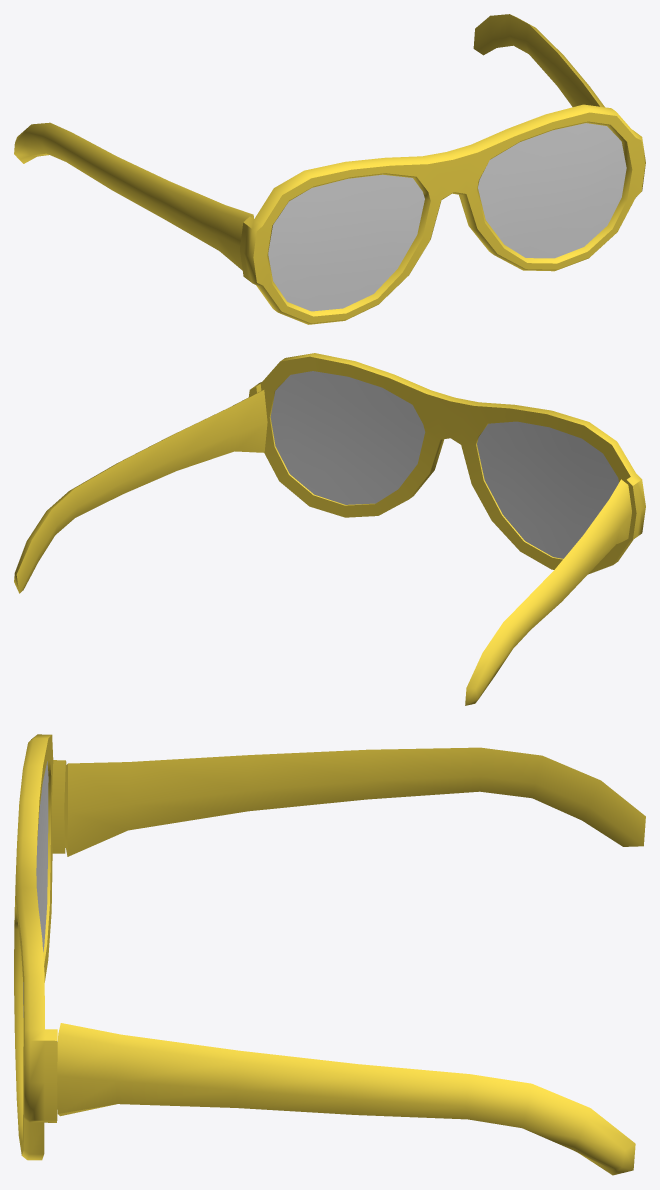
The model's file is Glasses.fbx.
The picture shows the model from 3 angles, top to bottom: view 1: azimuth 30°, elevation 25°; view 2: azimuth 150°, elevation 25°; view 3: azimuth 270°, elevation 25°; orthographic projection. The views are drawn at different scales.
Visible parts, largest first — view 1: Glasses3, Glasses2, Glasses1; view 2: Glasses3, Glasses1, Glasses2; view 3: Glasses1, Glasses2, Glasses3.
Part boxes in pixels (x1,y1,x2,y2): Glasses3: (268,123,626,311); Glasses2: (240,104,645,324); Glasses1: (14,14,604,270); Glasses3: (270,371,618,558); Glasses1: (14,390,631,705); Glasses2: (249,353,645,574); Glasses1: (57,747,645,1175); Glasses2: (14,734,66,1160); Glasses3: (23,761,48,1017).
Size of the model in its own units: 227 by 70.3 by 177.
